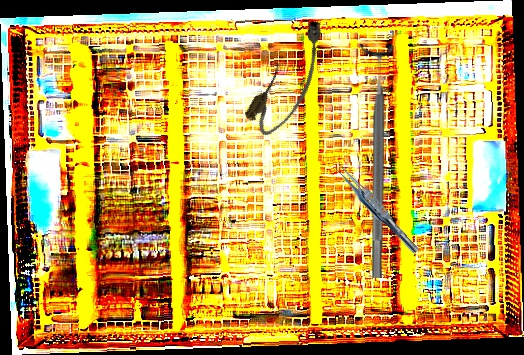Cannula: (240, 14, 343, 143)
Fixation Ring: (358, 44, 396, 278)
Tissue Forceps: (328, 159, 424, 256)
